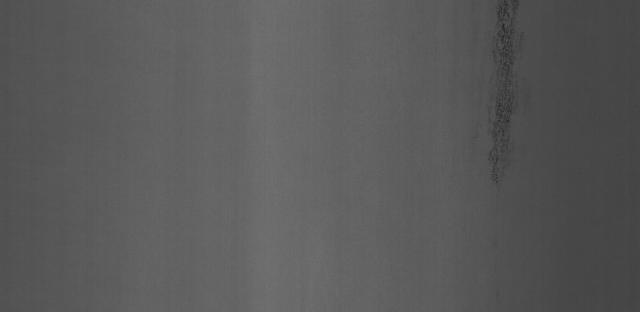inclusion: (471, 0, 554, 202)
